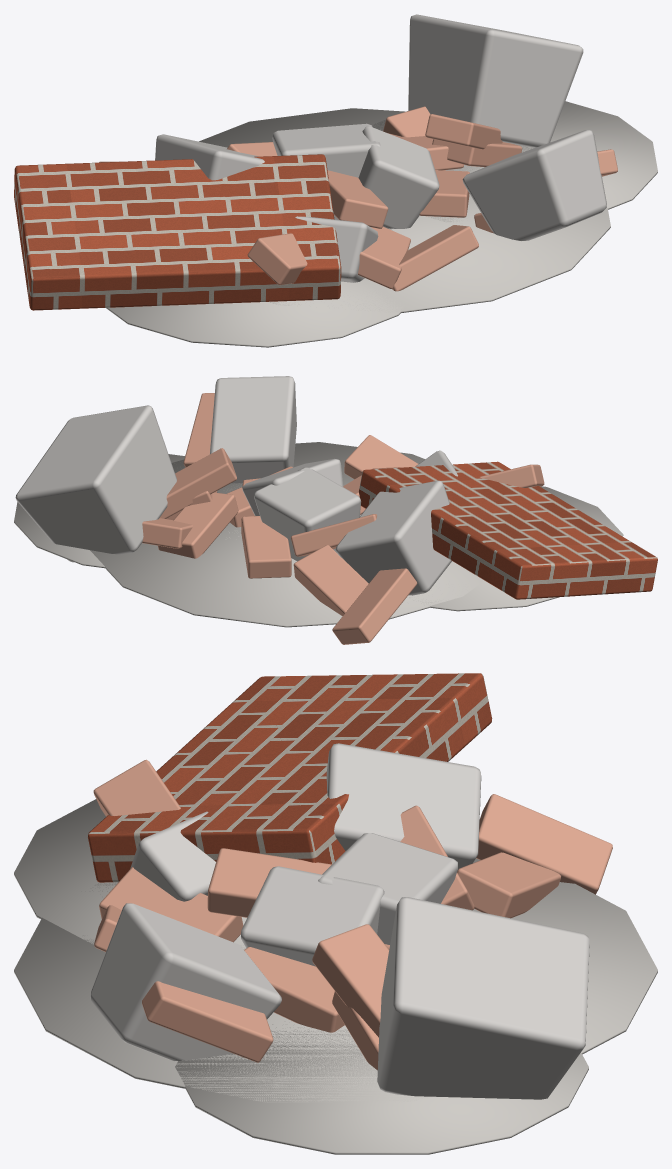
The model's file is escena.barrio.escombros.fbx.
3 renders of one model, top to bottom at view 1: azimuth 30°, elevation 25°; view 2: azimuth 150°, elevation 25°; view 3: azimuth 270°, elevation 25°, orthographic. The views are drawn at different scales.
Visible parts, largest first — view 1: Trozo de muro, Hormigon.003, Polvo, Polvo.001, Hormigon, Polvo.002, Hormigon.002, Hormigon.001, Ladrillo.003, Hormigon.004, Ladrillo.012, Ladrillo (+8 smaller); view 2: Trozo de muro, Hormigon.003, Polvo, Hormigon, Hormigon.004, Hormigon.001, Ladrillo.001, Ladrillo.009, Ladrillo.006, Ladrillo.002, Ladrillo.013, Polvo.001 (+9 smaller); view 3: Trozo de muro, Hormigon.003, Polvo, Polvo.002, Hormigon, Hormigon.004, Hormigon.002, Polvo.001, Ladrillo.001, Hormigon.001, Ladrillo.011, Ladrillo.013 (+9 smaller).
Part boxes in pixels (x1=…): Trozo de muro: x1=14, y1=154, x2=341, y2=310; Hormigon.003: x1=408, y1=14, x2=583, y2=147; Polvo: x1=199, y1=108, x2=610, y2=312; Polvo.001: x1=106, y1=215, x2=408, y2=347; Hormigon: x1=462, y1=130, x2=606, y2=240; Polvo.002: x1=373, y1=101, x2=657, y2=222; Hormigon.002: x1=358, y1=126, x2=439, y2=228; Hormigon.001: x1=272, y1=123, x2=380, y2=177; Ladrillo.003: x1=392, y1=225, x2=478, y2=291; Hormigon.004: x1=155, y1=134, x2=264, y2=180; Ladrillo.012: x1=327, y1=170, x2=388, y2=228; Ladrillo: x1=358, y1=226, x2=410, y2=288; Trozo de muro: x1=359, y1=461, x2=657, y2=599; Hormigon.003: x1=15, y1=405, x2=176, y2=562; Polvo: x1=90, y1=442, x2=484, y2=627; Hormigon: x1=210, y1=376, x2=296, y2=483; Hormigon.004: x1=335, y1=480, x2=451, y2=595; Hormigon.001: x1=254, y1=467, x2=361, y2=561; Ladrillo.001: x1=332, y1=568, x2=417, y2=644; Ladrillo.009: x1=293, y1=545, x2=368, y2=615; Ladrillo.006: x1=241, y1=516, x2=291, y2=578; Ladrillo.002: x1=158, y1=492, x2=238, y2=558; Ladrillo.013: x1=160, y1=448, x2=236, y2=518; Polvo.001: x1=409, y1=486, x2=623, y2=611; Trozo de muro: x1=88, y1=673, x2=492, y2=882; Hormigon.003: x1=377, y1=897, x2=589, y2=1099; Polvo: x1=14, y1=858, x2=657, y2=1102; Polvo.002: x1=175, y1=1024, x2=588, y2=1154; Hormigon: x1=90, y1=903, x2=281, y2=1060; Hormigon.004: x1=326, y1=743, x2=481, y2=869; Hormigon.002: x1=241, y1=866, x2=384, y2=966; Polvo.001: x1=14, y1=799, x2=246, y2=949; Ladrillo.001: x1=476, y1=794, x2=612, y2=894; Hormigon.001: x1=318, y1=833, x2=457, y2=944; Ladrillo.011: x1=142, y1=981, x2=273, y2=1062; Ladrillo.013: x1=312, y1=924, x2=389, y2=1037.
Size of the model in its own units: 2.16 by 0.4721 by 1.4.
Materials: 4 (1 with a texture image).
